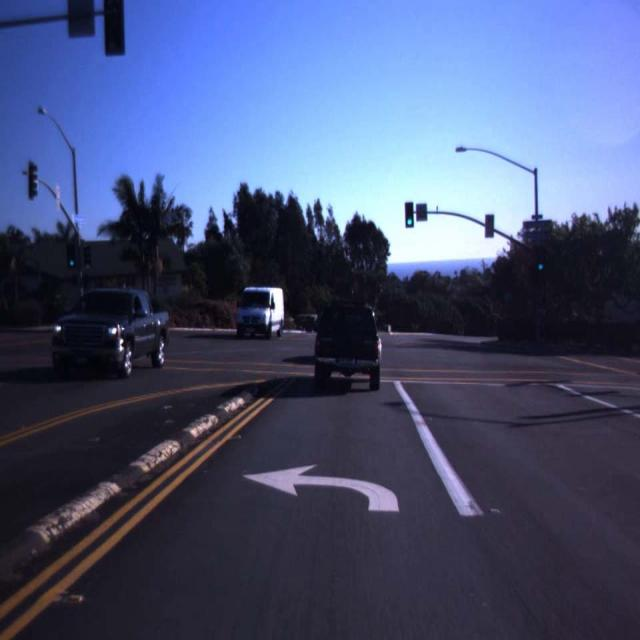yesil: (405, 202, 413, 226)
